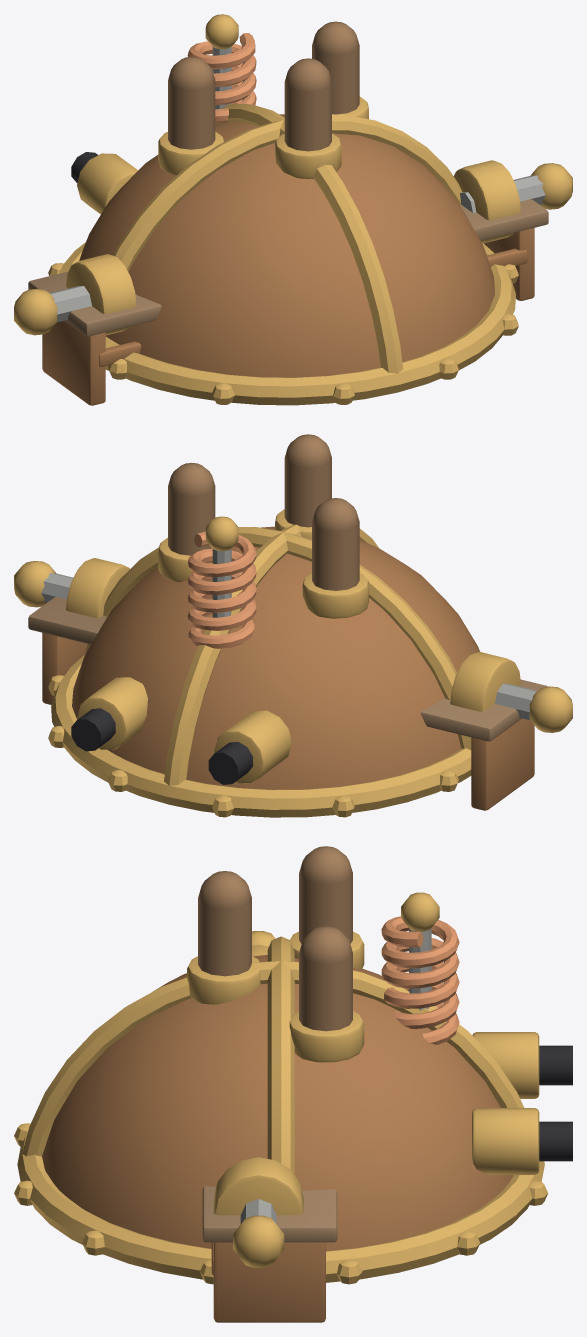
Rendered from brain_helmet.glb.
3 views of the same model, one above another, from view 1: azimuth 30°, elevation 25°; view 2: azimuth 150°, elevation 25°; view 3: azimuth 270°, elevation 25° (orthographic). The views are drawn at different scales.
Parts seen in each view (by area): view 1: Helmet, Bench; view 2: Helmet, Bench; view 3: Helmet, Bench.
Boxes of the visible parts, x1,y1,x2,y2 form: Helmet: (14,14,572,405); Bench: (28,199,548,405); Helmet: (14,434,572,817); Bench: (28,597,547,810); Helmet: (14,846,572,1284); Bench: (202,1186,337,1322).
Size of the model in its own units: 3.22 by 1.86 by 2.49.
